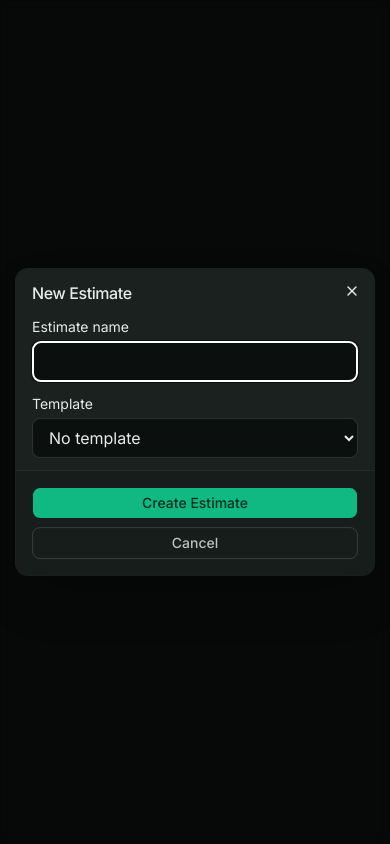
Test case: NewEstimateModal › shows the server error, stays open, and re-enables submit when the create fails
Expected: the field labelled "Estimate name" is shown, [32, 341, 358, 382]
Click the button "Create Estimate". click: (195, 503)
box: [32, 487, 358, 519]
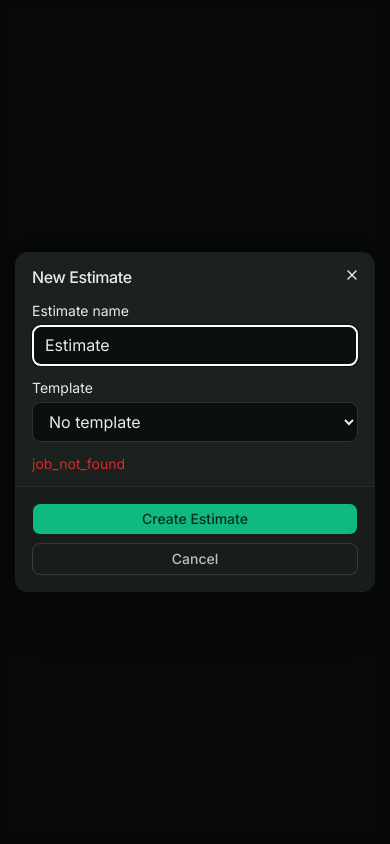
Expected: the button "Create Estimate" is enabled, [32, 503, 358, 535]
Result: the message reads "job_not_found" at [32, 455, 125, 472]
